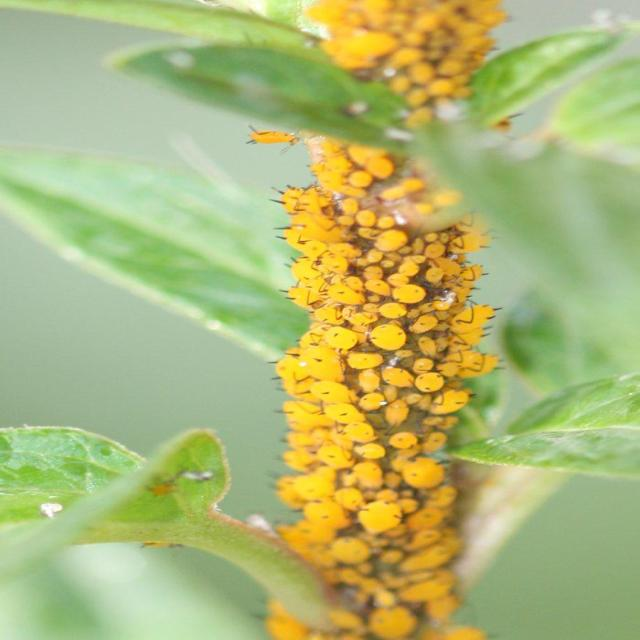Aphids: (361, 323, 416, 363)
